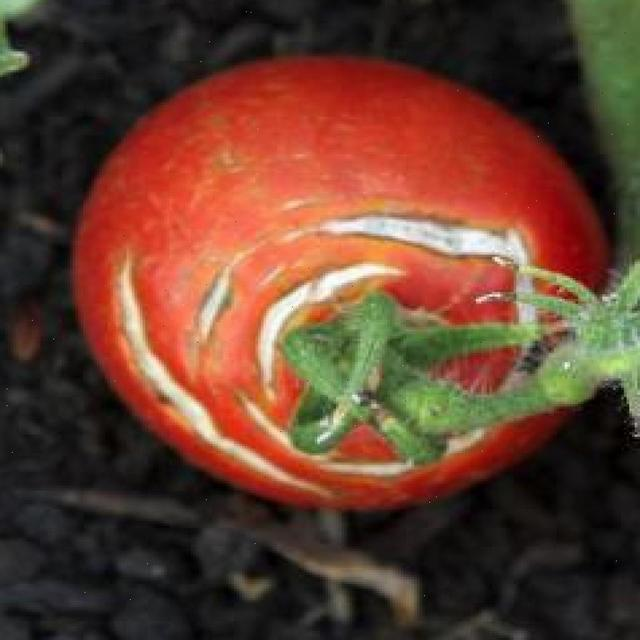Cracking Fruit: (68, 135, 363, 336)
